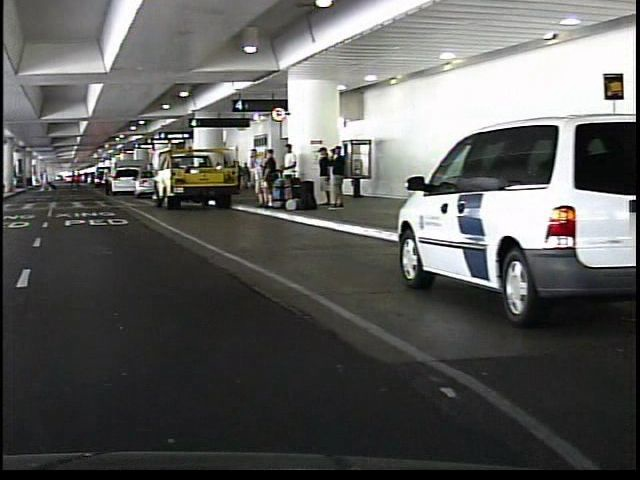person: (243, 144, 261, 206), (325, 144, 342, 209), (34, 161, 52, 195), (96, 166, 109, 199)
